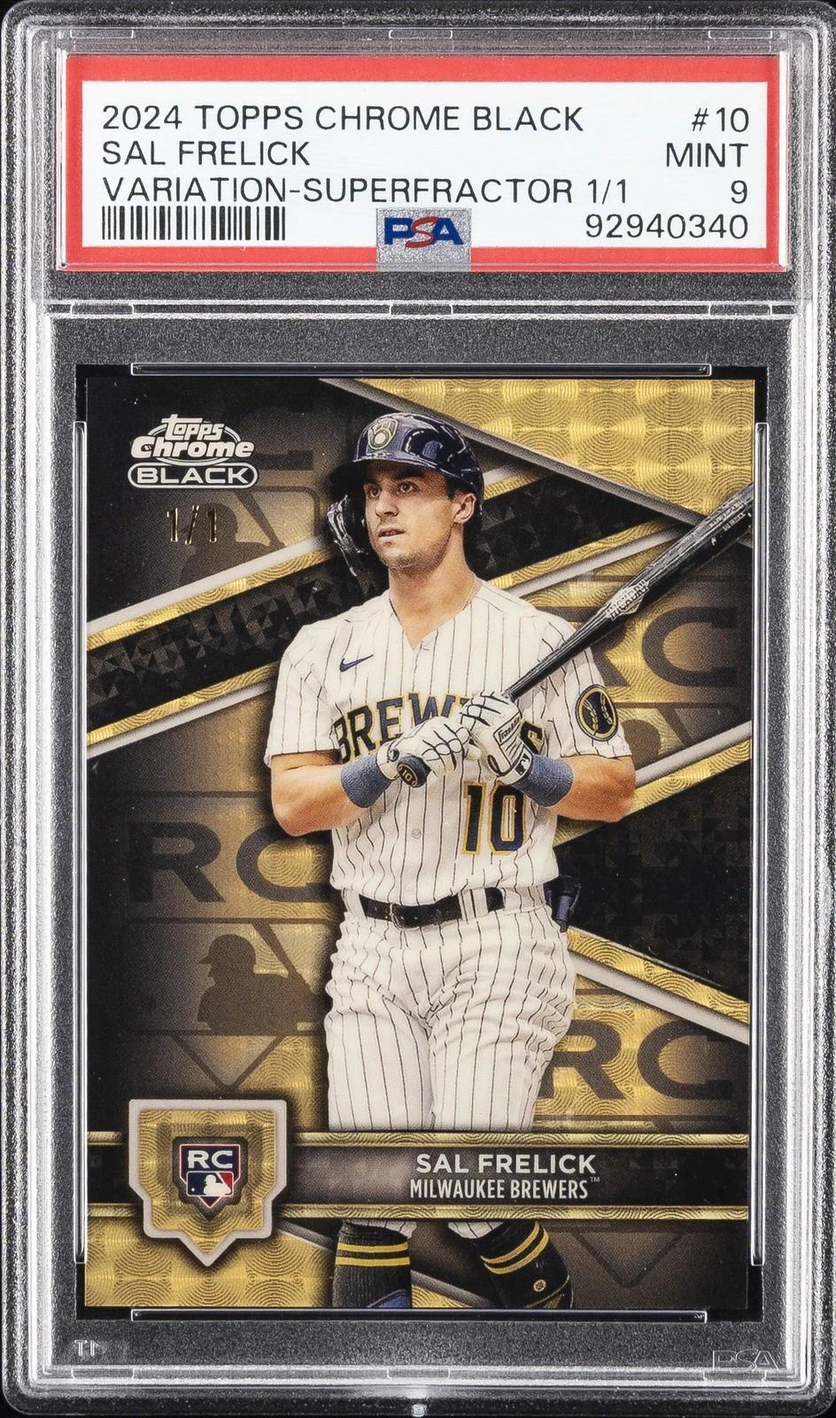card-2UtV: (83, 376, 757, 1311)
